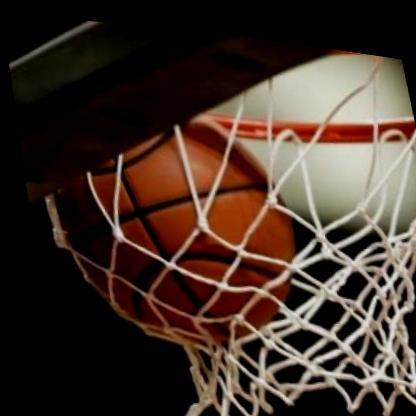basketball: (21, 69, 327, 364)
